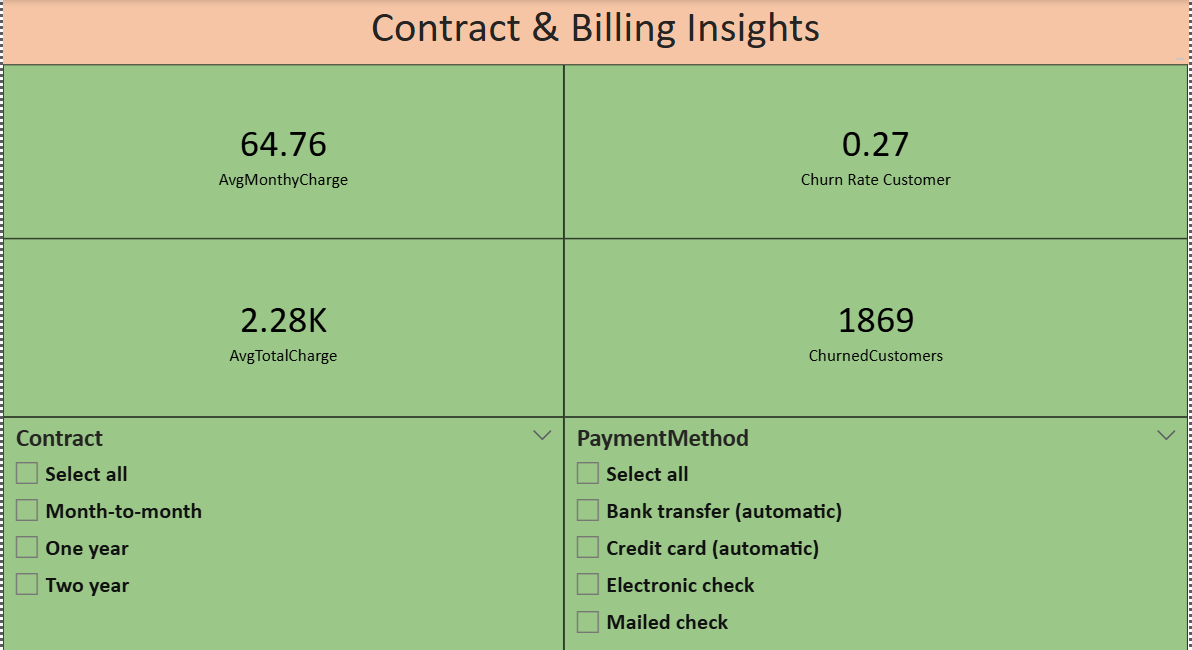

What the dashboard file says about the page in this screenshot:
{"tool":"powerbi","page":{"name":"Page 5","canvas":[1280,720],"ordinal":4},"visuals":[{"type":"textbox","title":"Contract & Billing Insights","box":[0,0,1279.4,69.9],"z":0},{"type":"card","fields":{"Values":["Customer Churn Data.AvgMonthyCharge"]},"box":[0,69.6,605.6,187.8],"z":1000},{"type":"card","fields":{"Values":["Customer Churn Data.AvgTotalCharge"]},"box":[0,257.5,605.6,192.7],"z":2000},{"type":"card","fields":{"Values":["Customer Churn Data.ChurnedCustomers"]},"box":[605.6,257.5,673.6,192.7],"z":3000},{"type":"card","fields":{"Values":["Customer Churn Data.Churn Rate Customer"]},"box":[605.6,69.6,673.6,187.8],"z":4000},{"type":"slicer","fields":{"Values":["Customer Churn Data.Contract"]},"box":[0,450.1,605.6,270.4],"z":5000},{"type":"slicer","fields":{"Values":["Customer Churn Data.PaymentMethod"]},"box":[605.6,450.1,673.6,270.4],"z":6000}]}

Visuals, with their boxes in screenshot pixels (x1, y1, x2, y2):
"Contract & Billing Insights" textbox: 3 0 1182 61
card - Customer Churn Data.AvgMonthyCharge: 3 61 561 234
card - Customer Churn Data.AvgTotalCharge: 3 234 561 412
card - Customer Churn Data.ChurnedCustomers: 561 234 1182 412
card - Customer Churn Data.Churn Rate Customer: 561 61 1182 234
slicer - Customer Churn Data.Contract: 3 412 561 649
slicer - Customer Churn Data.PaymentMethod: 561 412 1182 649
